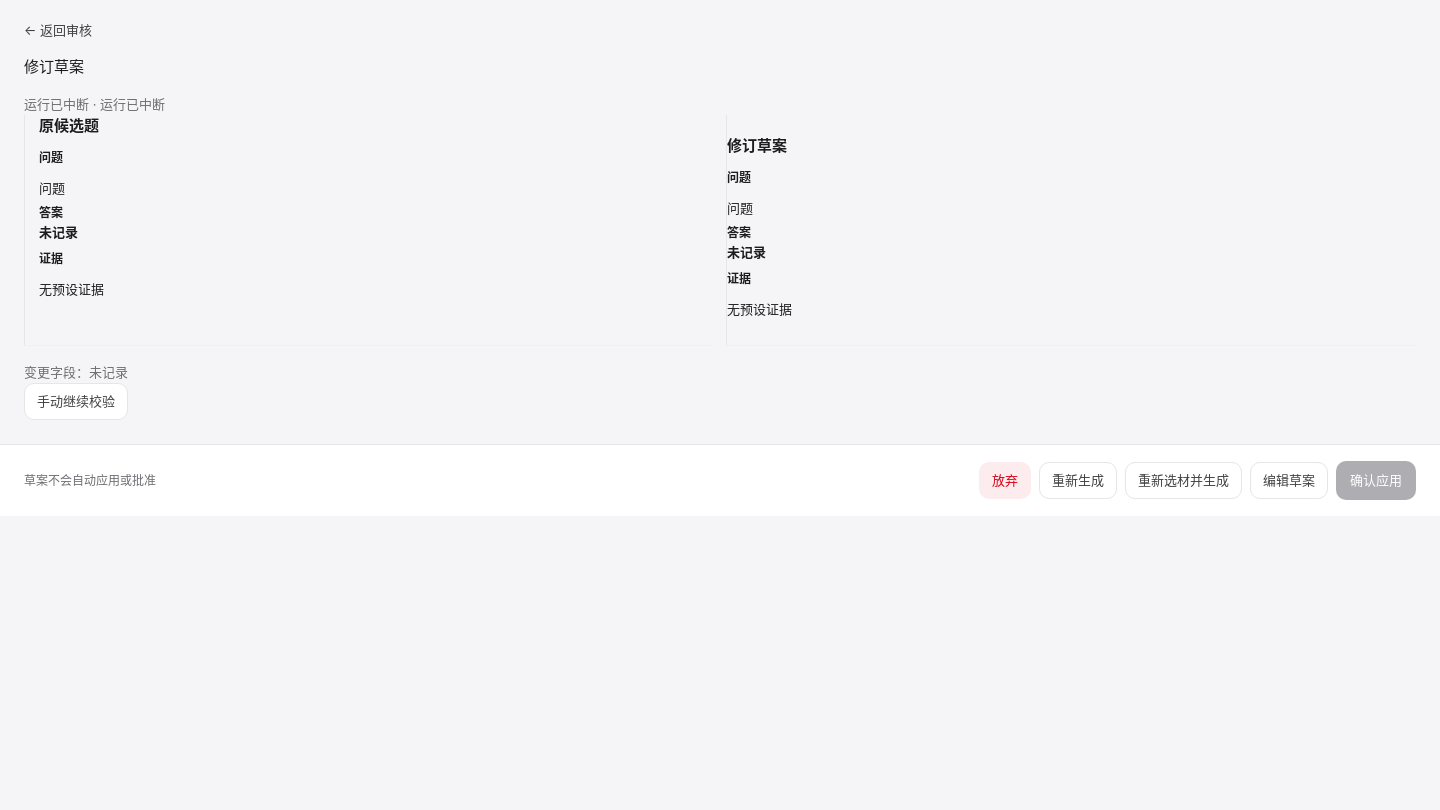
Test: confirms revision operation resume without sending on cancel
What coordinates should you click on to do the following:
click the button "手动继续校验"
I would click on:
 (76, 401)
Its box is [24,383,128,420].
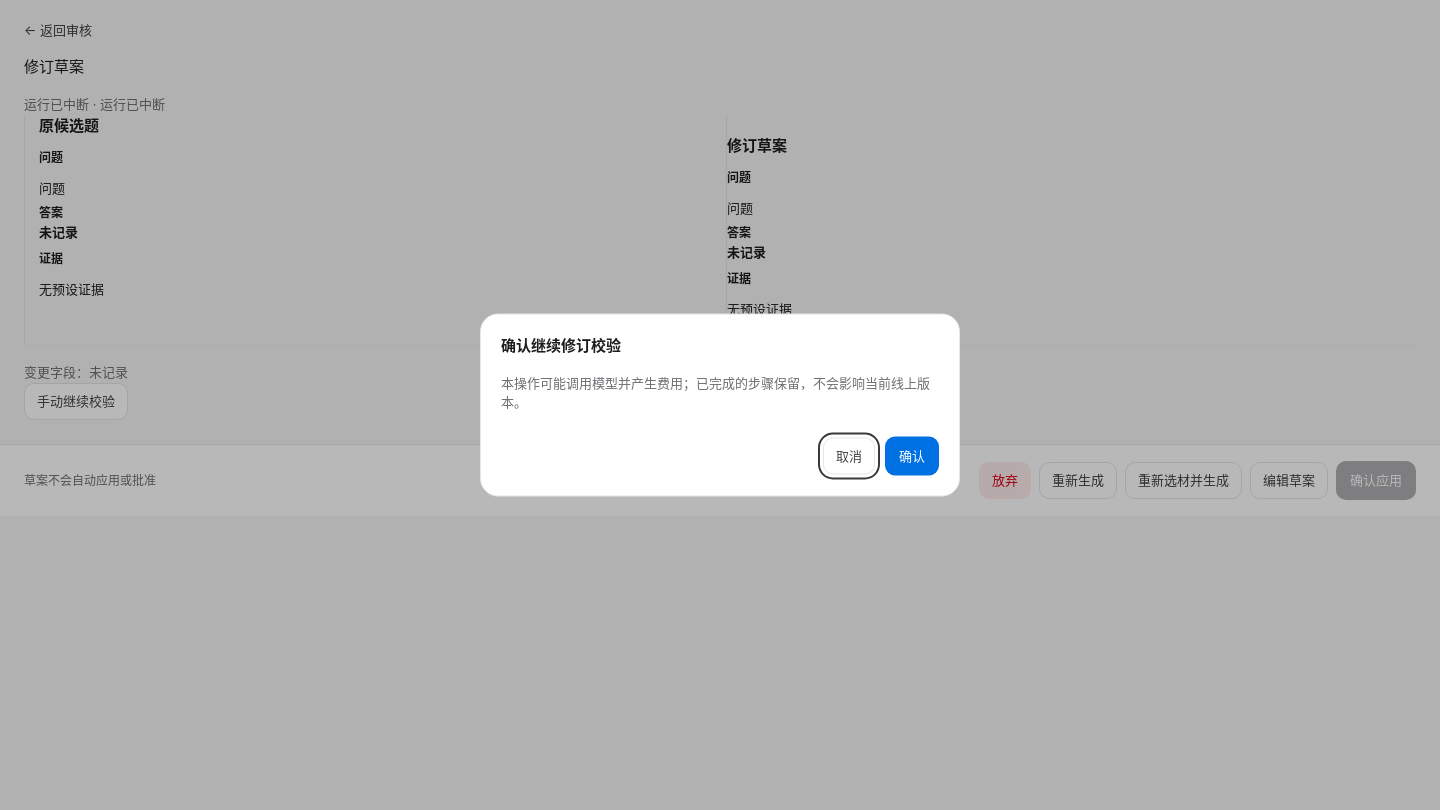
Expected: the dialog with class "confirm-dialog" is shown, [480,314,960,496]
Expected: the button "取消" is shown
What coordinates should you click on to do the following:
click the button "取消"
I would click on:
 (849, 456)
Its box is [823,437,875,474].
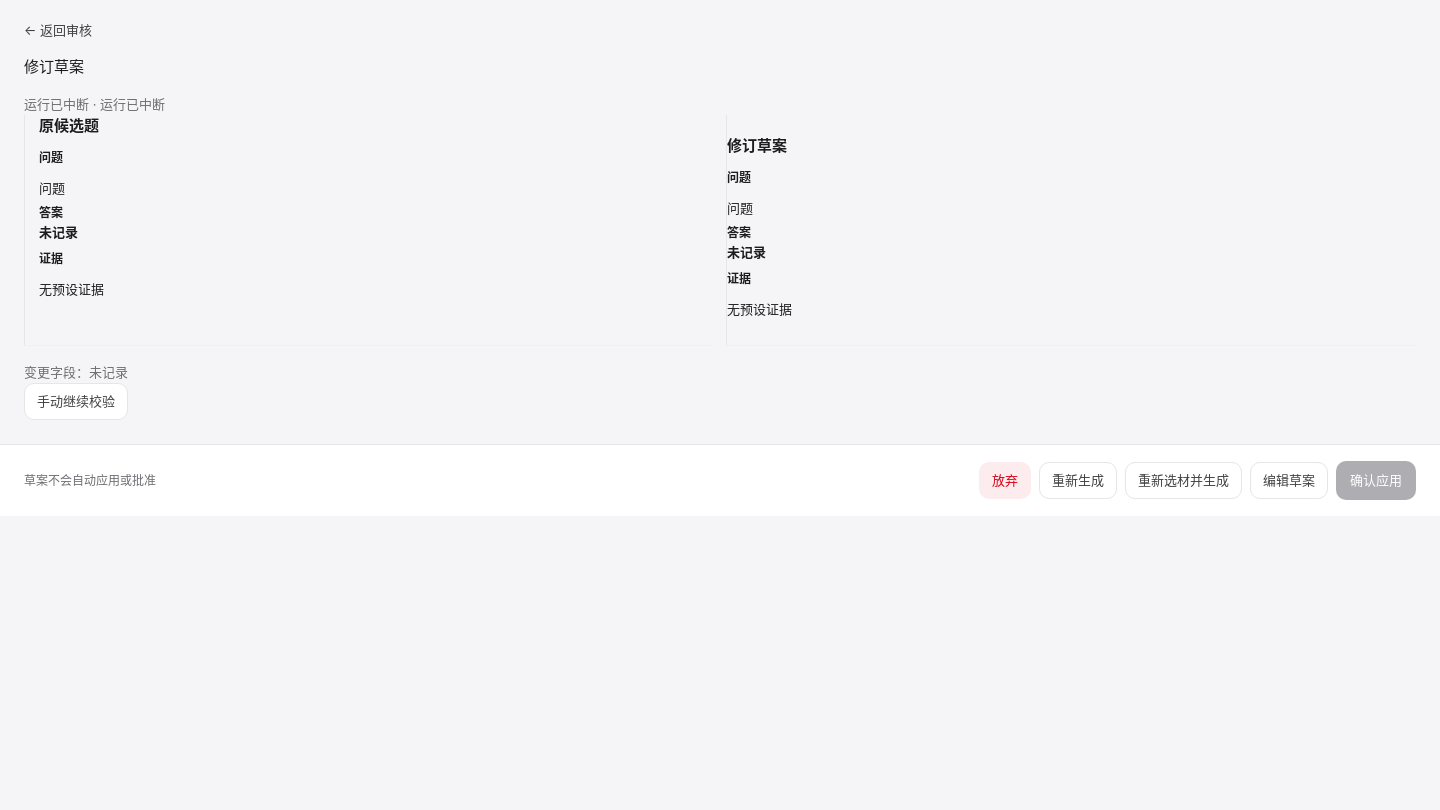
Expected: the dialog with class "confirm-dialog" is gone
